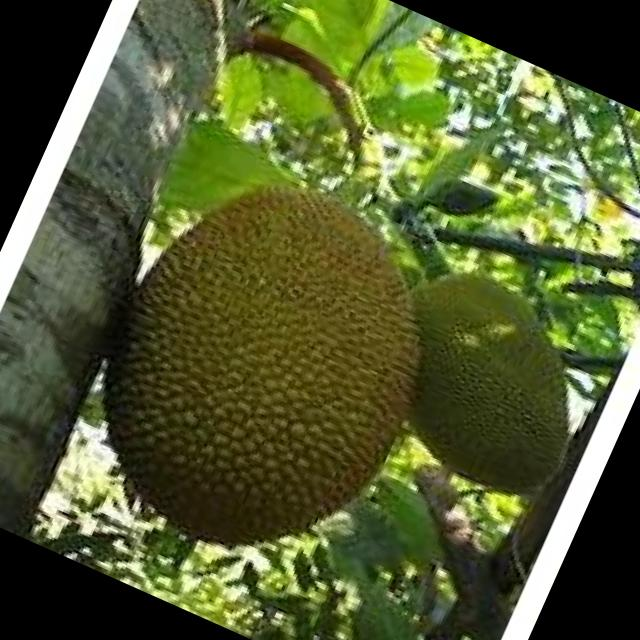Fruit: (18, 114, 503, 626), (336, 237, 632, 529)
